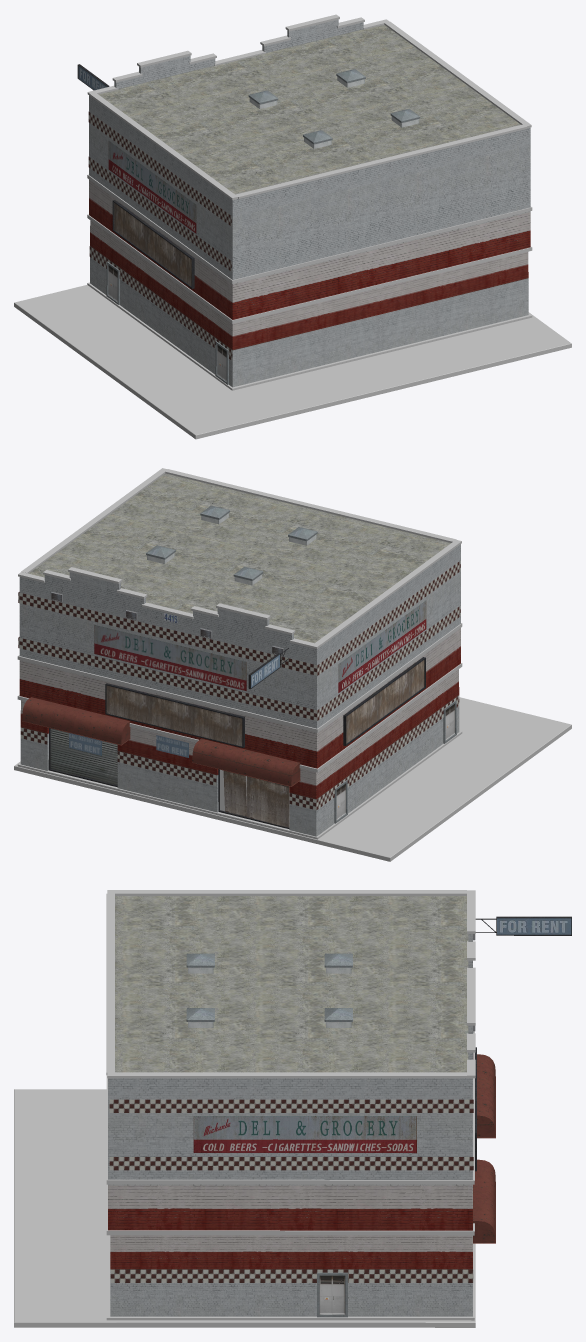
Rendered from u2SEBuild3.gltf.
The picture shows the model from 3 angles, top to bottom: view 1: azimuth 30°, elevation 25°; view 2: azimuth 150°, elevation 25°; view 3: azimuth 270°, elevation 25°; orthographic projection. The views are drawn at different scales.
Visible parts, largest first — view 1: u2SEBuild3; view 2: u2SEBuild3; view 3: u2SEBuild3.
Part boxes in pixels (x1,y1,x2,y2): u2SEBuild3: (14, 14, 571, 439); u2SEBuild3: (14, 468, 571, 861); u2SEBuild3: (14, 890, 571, 1327).
Bounding box in the file's own units: 7.1 × 3.85 × 7.18.
